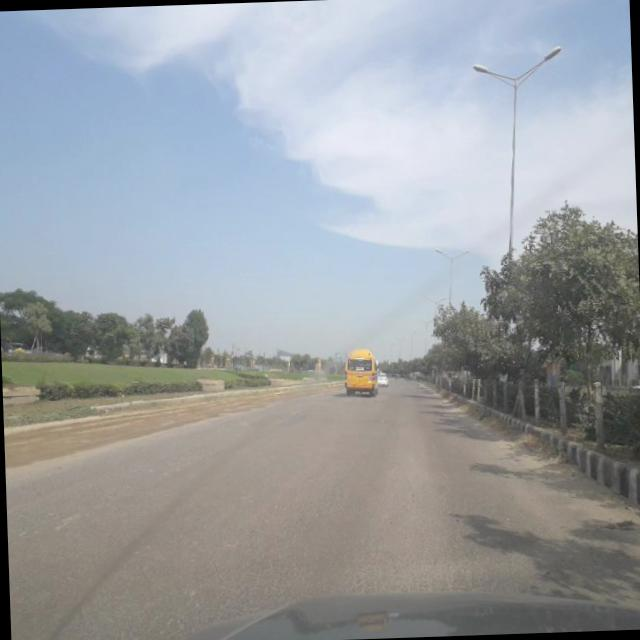crack: (155, 478, 548, 611)
